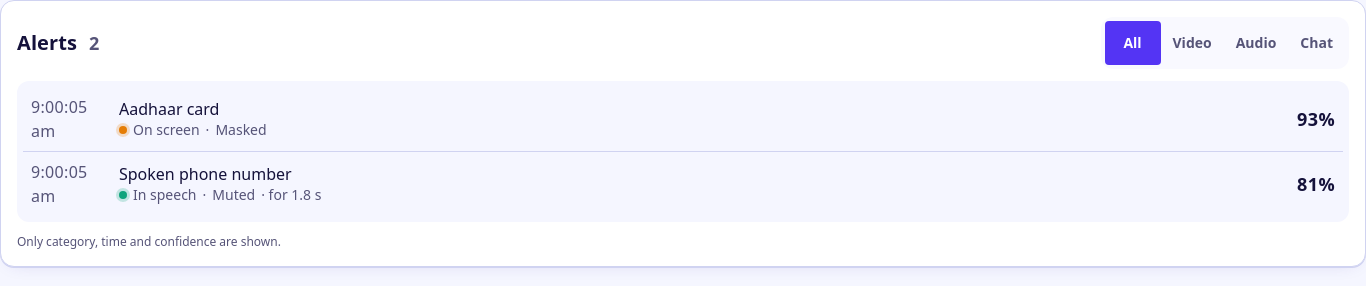
Test case: AlertFeed › filters by kind and says when a kind has nothing
Click the button "Audio": coordinates (1256, 43) [1224,21,1288,65]
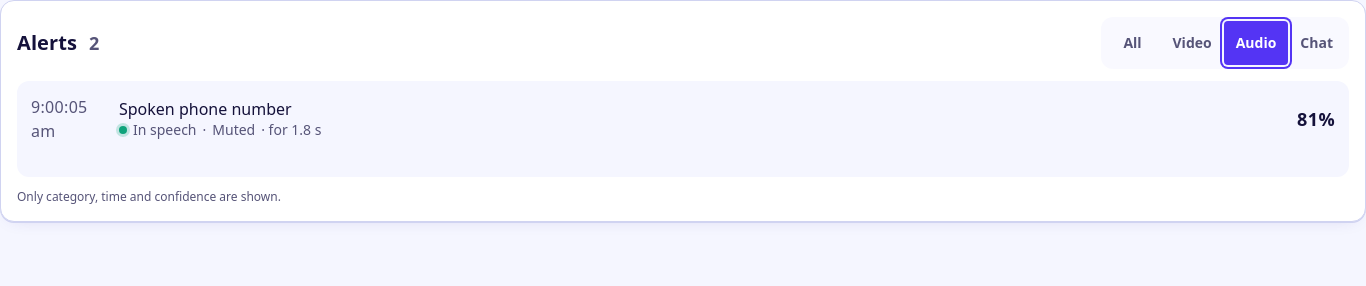
Expected: the text "Spoken phone number" is shown, [119,98,292,120]
Expected: the number of list items is 1, [23,87,1343,151]
Click the button "Chat": coordinates (1317, 43) [1288,21,1345,65]
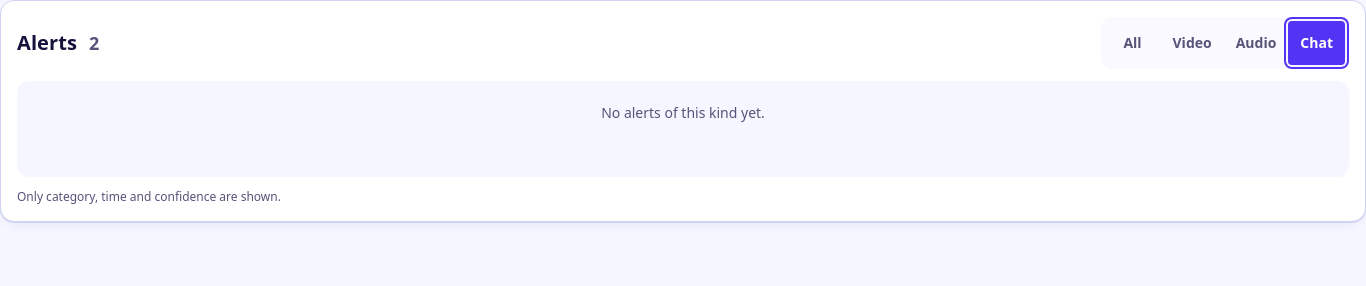
Expected: the text "No alerts of this kind yet." is shown, [601,103,765,122]
